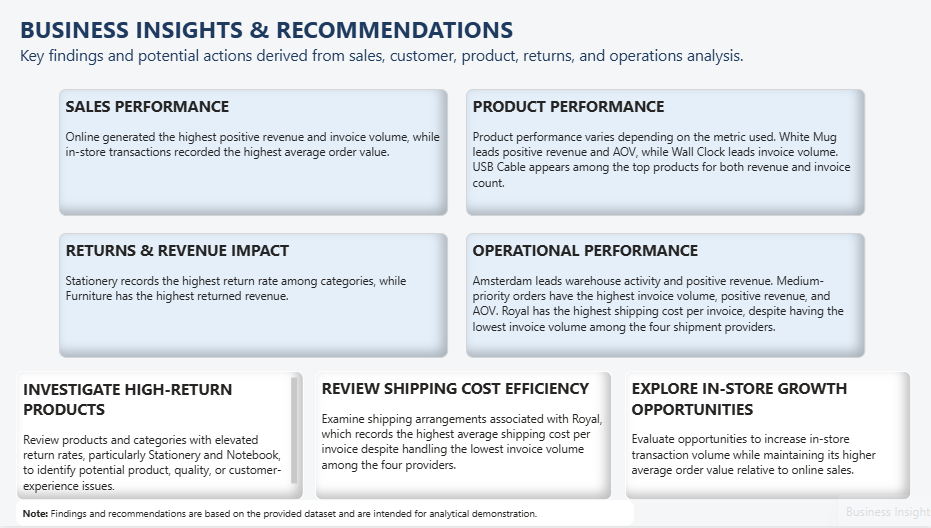

Layout of this report page (visuals, bound fields, positions):
{"tool":"powerbi","page":{"name":"Business Insights & Recommendations","canvas":[1280,720],"ordinal":5},"visuals":[{"type":"textbox","box":[23,13,1058.4,132.5],"z":0},{"type":"textbox","box":[82.1,122.4,532.8,174.2],"z":1000},{"type":"textbox","box":[639.4,122.4,547.2,174.2],"z":2000},{"type":"textbox","box":[82,319,532.7,171.2],"z":3000},{"type":"textbox","box":[639.5,319,547.3,171.2],"z":4000},{"type":"textbox","box":[23.4,507.8,393.7,177.1],"z":5000},{"type":"textbox","box":[433.2,507.8,406.8,177.1],"z":6000},{"type":"textbox","box":[857.6,507.8,392.2,177.1],"z":7000},{"type":"textbox","box":[23.4,684.9,845.9,35.1],"z":8000}]}

Visuals, with their boxes in screenshot pixels (x1, y1, x2, y2), scaled from the page's 1280x720 canvas onto the 931x528 screenshot:
textbox: [17, 10, 787, 107]
textbox: [60, 90, 447, 218]
textbox: [465, 90, 863, 218]
textbox: [60, 234, 447, 359]
textbox: [465, 234, 863, 359]
textbox: [17, 372, 303, 502]
textbox: [315, 372, 611, 502]
textbox: [624, 372, 909, 502]
textbox: [17, 502, 632, 527]
